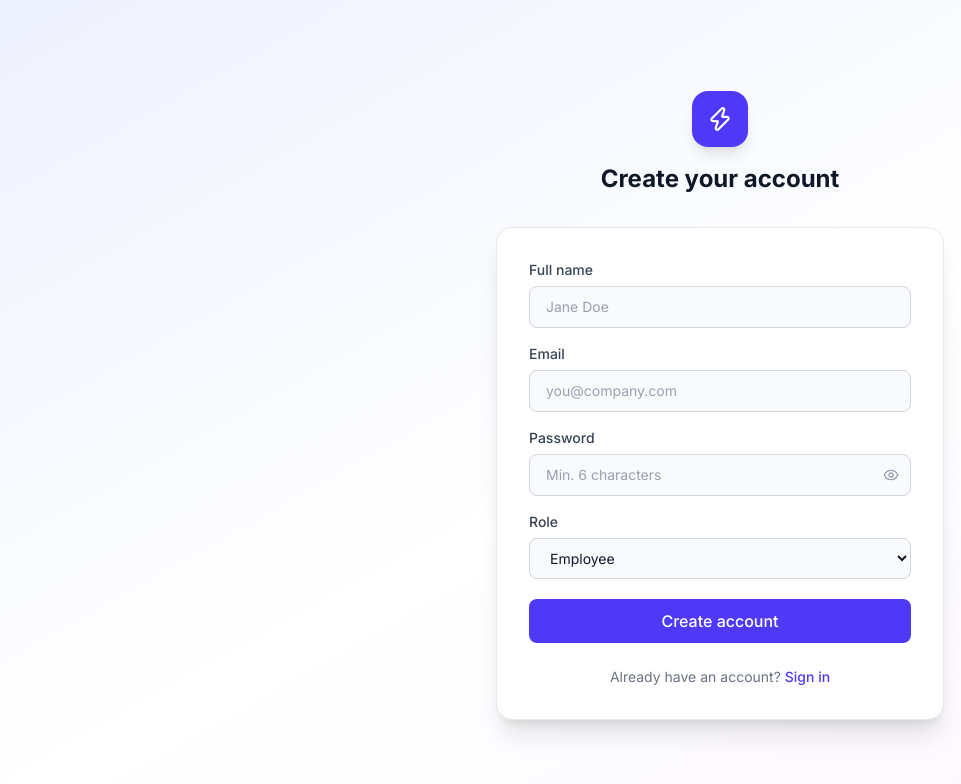
Test: Signup – validation › shows required errors when form submitted empty
The width and height of the screenshot is (961, 784).
Click the button "Create account": (720, 620) [529,598,911,642]
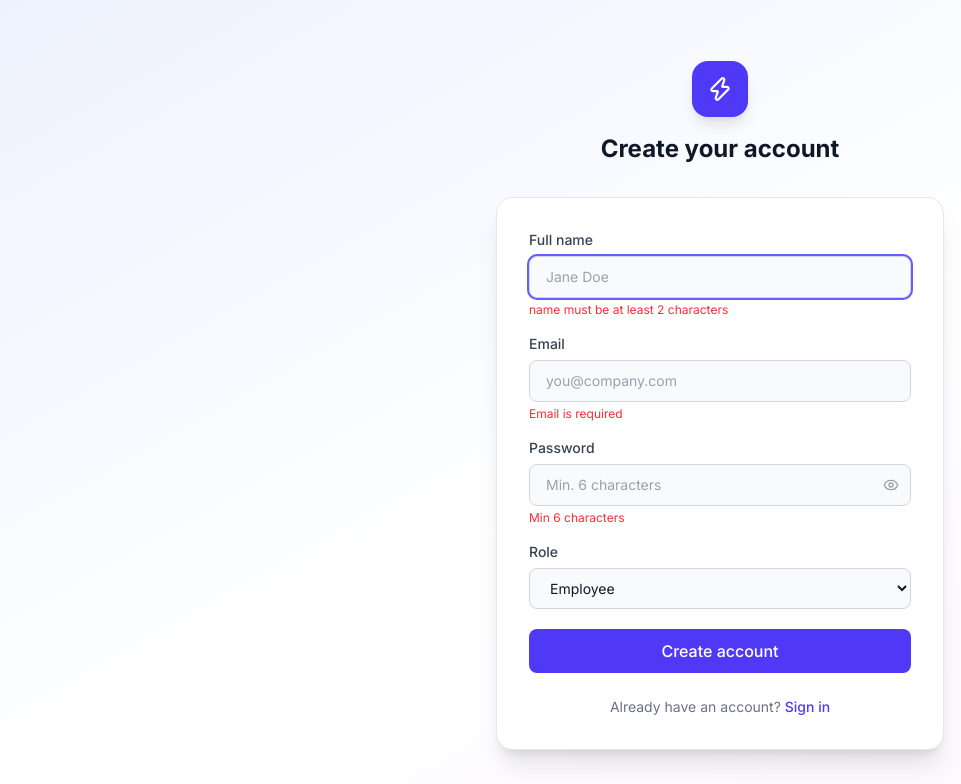
Check: the text "name must be at least 2 characters" is shown, box [529,302,728,316]
Check: the text "Email is required" is shown, box [529,406,623,420]
Check: the text "Min 6 characters" is shown, box [529,510,624,524]
